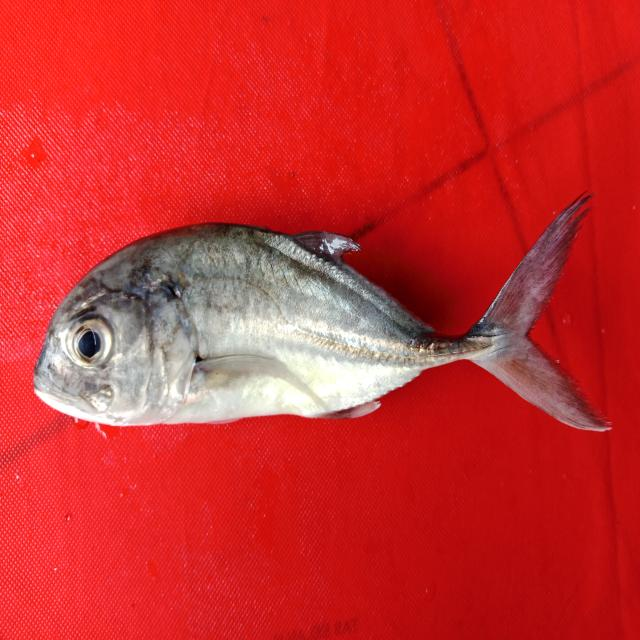ikan: (20, 179, 625, 453)
